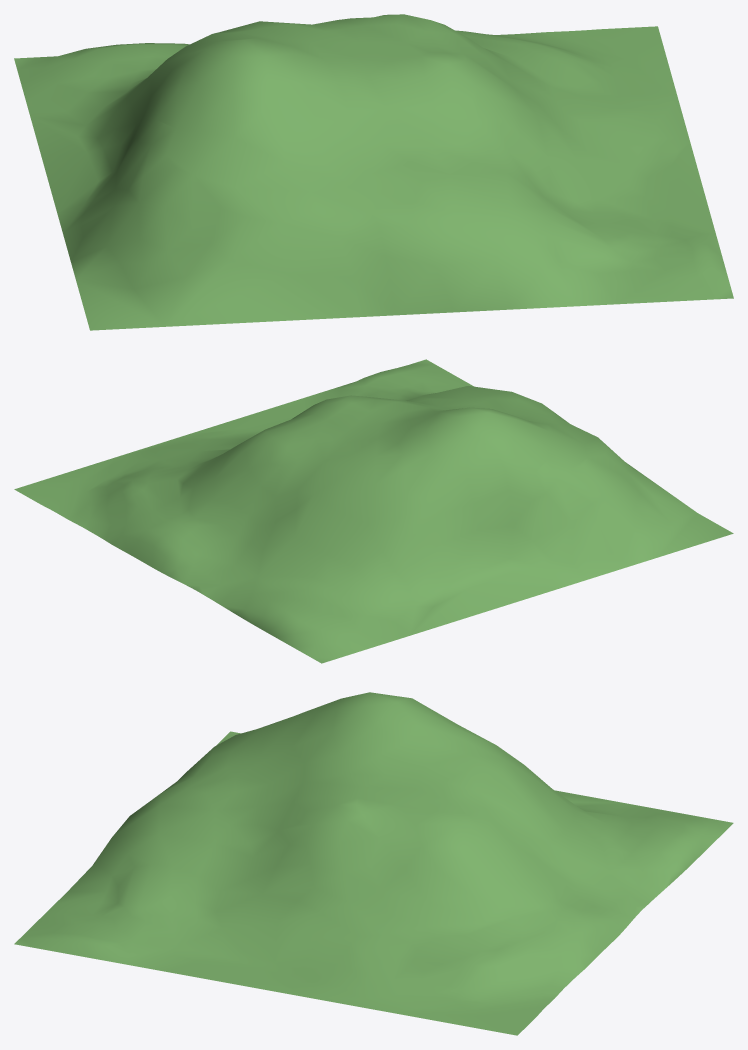
Rendered from SM_Hills_01.obj.
The picture shows the model from 3 angles, top to bottom: view 1: azimuth 30°, elevation 25°; view 2: azimuth 150°, elevation 25°; view 3: azimuth 270°, elevation 25°; orthographic projection. The views are drawn at different scales.
Visible parts, largest first — view 1: SM_Hills_01; view 2: SM_Hills_01; view 3: SM_Hills_01.
Part boxes in pixels (x1=…): SM_Hills_01: x1=14, y1=14, x2=733, y2=330; SM_Hills_01: x1=14, y1=359, x2=733, y2=663; SM_Hills_01: x1=14, y1=692, x2=733, y2=1035.
Size of the model in its own units: 19.48 by 3.97 by 19.48.
1 material, 1 textured.
